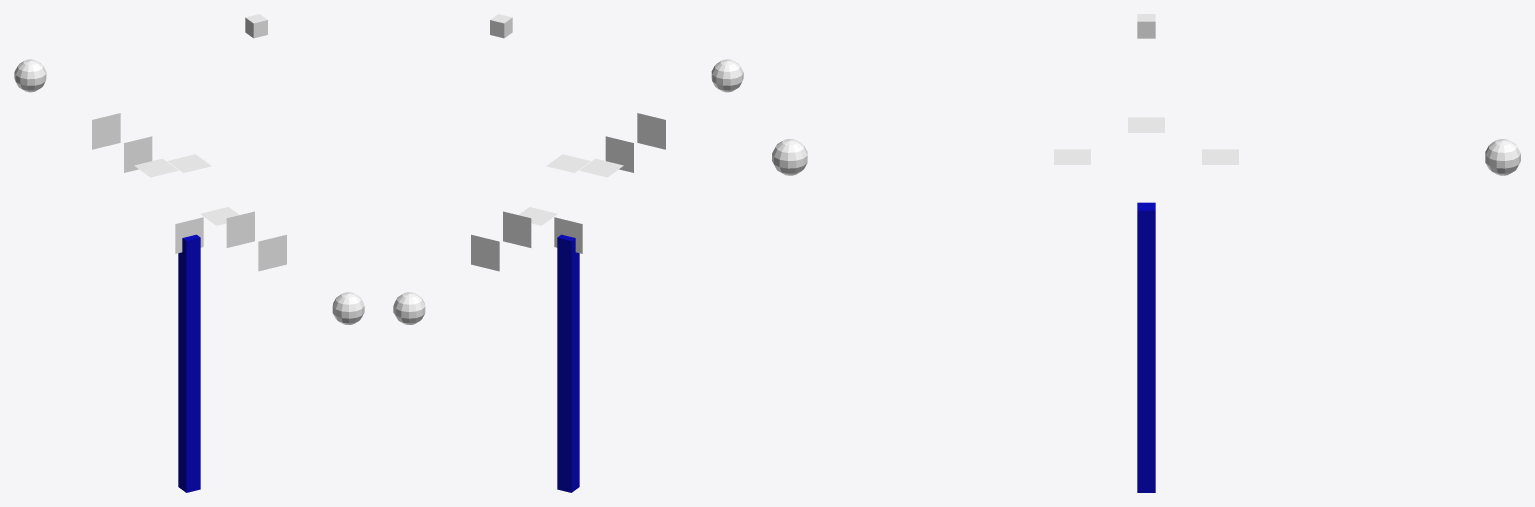
Rendered from qtrobot.dae.
3 renders of one model, left to right at view 1: azimuth 30°, elevation 25°; view 2: azimuth 150°, elevation 25°; view 3: azimuth 270°, elevation 25°, orthographic. The views are drawn at different scales.
Visible parts, largest first — view 1: base_link, RightShoulderRoll_link, RightElbowRoll_link, LeftElbowRoll_link, LeftHand_link, RightHand_link, LeftShoulderRoll_link, HeadYaw_link, LeftShoulderPitch_link, HeadPitch_link, Camera_link, RightShoulderPitch_link; view 2: base_link, LeftShoulderRoll_link, LeftElbowRoll_link, RightElbowRoll_link, RightHand_link, LeftHand_link, RightShoulderRoll_link, HeadYaw_link, RightShoulderPitch_link, HeadPitch_link, Camera_link, LeftShoulderPitch_link; view 3: base_link, LeftHand_link, RightHand_link.
Boxes of the visible parts, <box> form: base_link: <box>178,234,200,492</box>; RightShoulderRoll_link: <box>226,211,254,247</box>; RightElbowRoll_link: <box>258,234,286,271</box>; LeftElbowRoll_link: <box>92,113,120,149</box>; LeftHand_link: <box>14,59,46,92</box>; RightHand_link: <box>332,292,364,324</box>; LeftShoulderRoll_link: <box>124,136,152,172</box>; HeadYaw_link: <box>175,217,203,253</box>; LeftShoulderPitch_link: <box>134,158,178,177</box>; HeadPitch_link: <box>167,154,211,172</box>; Camera_link: <box>245,14,267,38</box>; RightShoulderPitch_link: <box>200,207,239,225</box>; base_link: <box>557,234,579,492</box>; LeftShoulderRoll_link: <box>503,211,531,247</box>; LeftElbowRoll_link: <box>471,234,499,271</box>; RightElbowRoll_link: <box>637,113,665,149</box>; RightHand_link: <box>711,59,743,92</box>; LeftHand_link: <box>393,292,425,324</box>; RightShoulderRoll_link: <box>605,136,633,172</box>; HeadYaw_link: <box>554,217,582,253</box>; RightShoulderPitch_link: <box>579,158,623,177</box>; HeadPitch_link: <box>546,154,590,172</box>; Camera_link: <box>490,14,512,38</box>; LeftShoulderPitch_link: <box>518,207,557,225</box>; base_link: <box>1137,202,1155,492</box>; LeftHand_link: <box>1485,139,1520,175</box>; RightHand_link: <box>772,139,807,175</box>.
Size of the model in its own units: 0.124 by 0.8102 by 0.6062.
